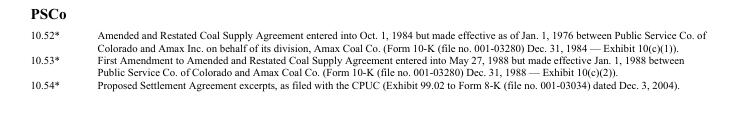table: (29, 28, 705, 89)
table column: (77, 28, 705, 89), (29, 28, 77, 89)
table row: (29, 28, 705, 53), (29, 53, 705, 77), (29, 77, 705, 89)
